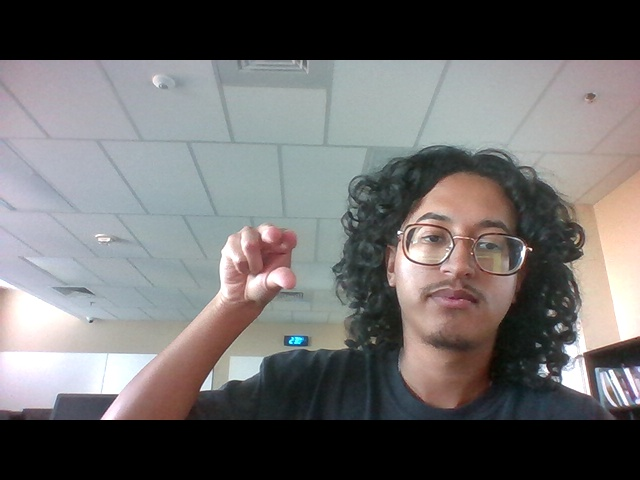no: (210, 219, 324, 321)
